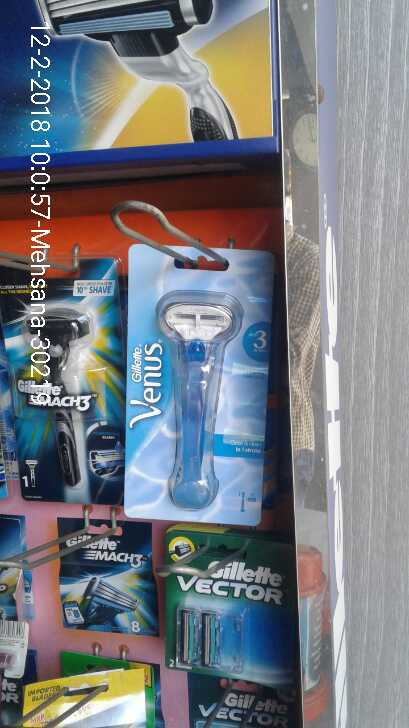beauty: (129, 244, 271, 523), (156, 530, 309, 688), (56, 515, 159, 641)
